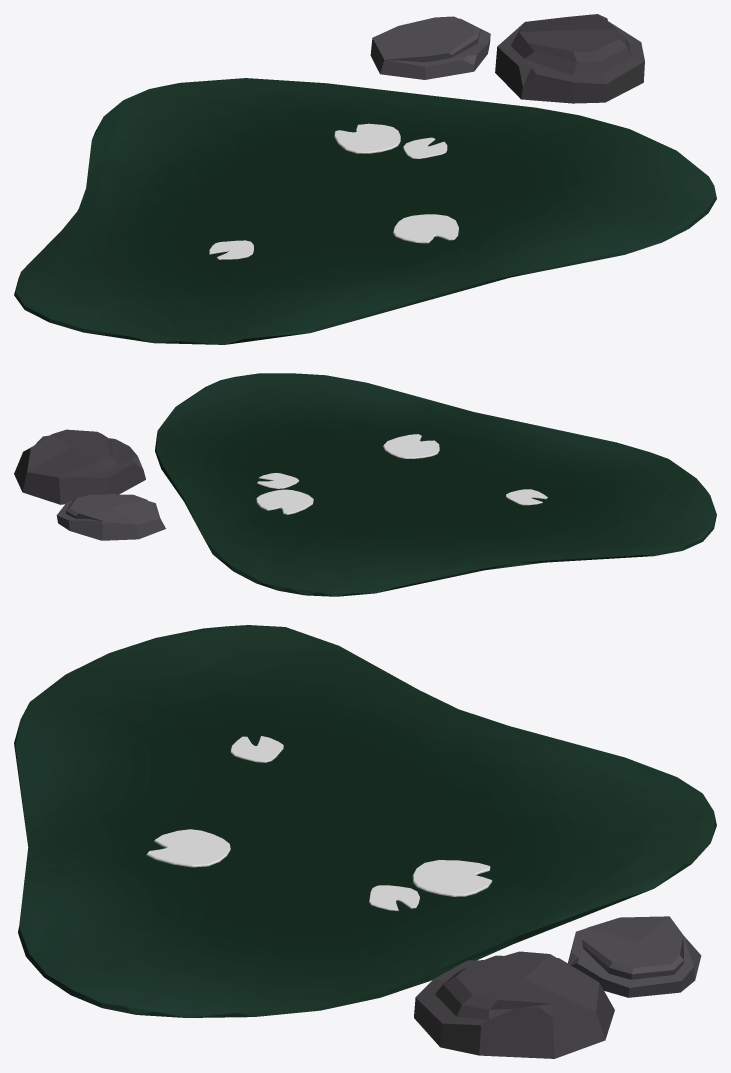
File: waterlake_noleaf_normal.fbx
3 renders of one model, top to bottom at view 1: azimuth 30°, elevation 25°; view 2: azimuth 150°, elevation 25°; view 3: azimuth 270°, elevation 25°, orthographic. The views are drawn at different scales.
Visible parts, largest first — view 1: stone03.007; view 2: stone03.007; view 3: stone03.007.
Boxes of the visible parts, x1,y1,x2,y2 form: stone03.007: [14, 14, 716, 344]; stone03.007: [14, 373, 716, 596]; stone03.007: [14, 625, 716, 1058].
Bounding box in the file's own units: 2192 × 108 × 1517.
